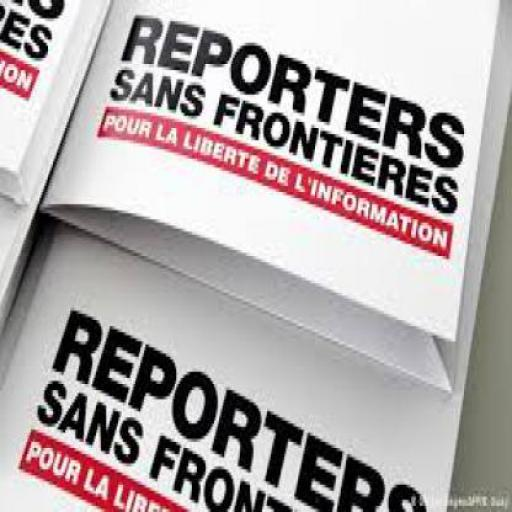paper: (41, 0, 510, 390), (0, 204, 511, 509), (0, 0, 114, 202)
